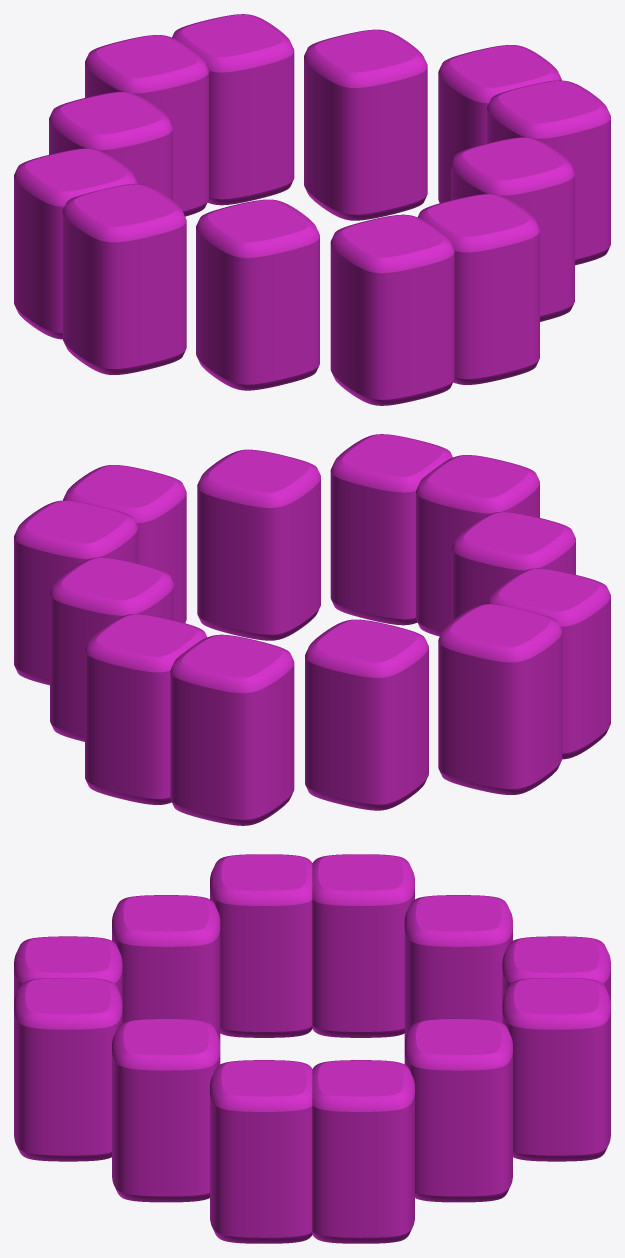
The model's file is Number_0.fbx.
3 renders of one model, top to bottom at view 1: azimuth 30°, elevation 25°; view 2: azimuth 150°, elevation 25°; view 3: azimuth 270°, elevation 25°, orthographic.
Parts seen in each view (by area): view 1: Number_0; view 2: Number_0; view 3: Number_0.
Part boxes in pixels (x1,y1,x2,y2): Number_0: (14, 14, 610, 405); Number_0: (14, 434, 610, 825); Number_0: (14, 854, 610, 1243).
Size of the model in its own units: 0.5146 by 0.14 by 0.5157.
